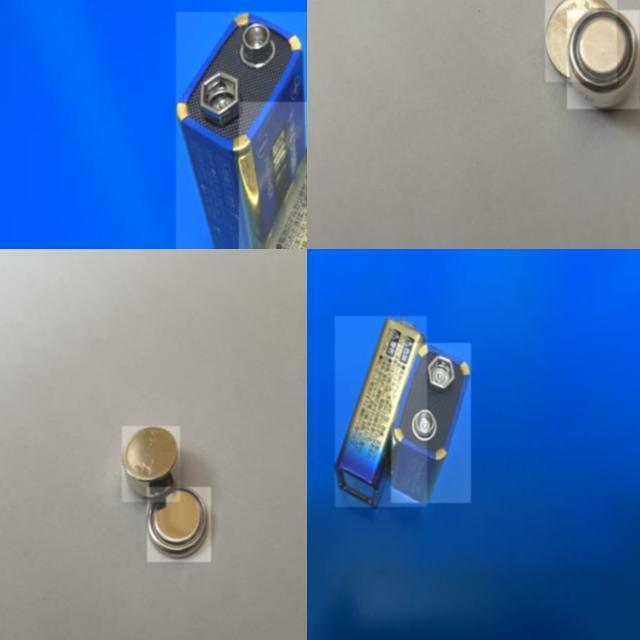9V: (176, 11, 307, 249), (335, 316, 427, 507), (391, 343, 472, 503), (239, 102, 307, 249)
